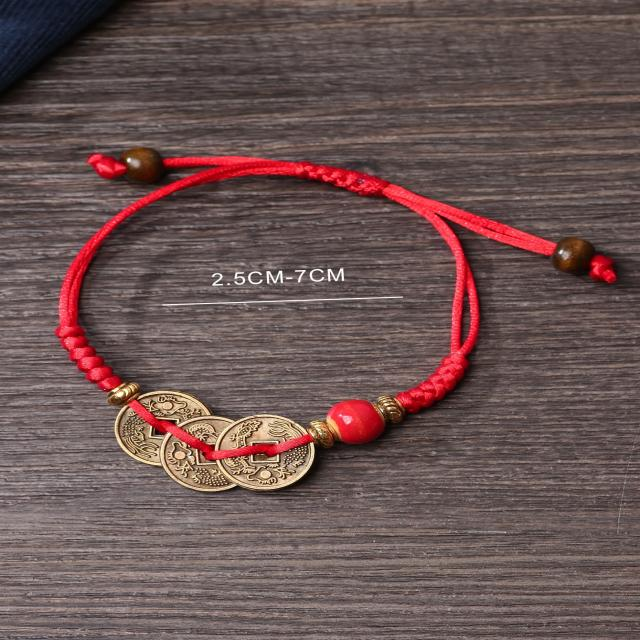bracelet: (0, 67, 640, 511)
